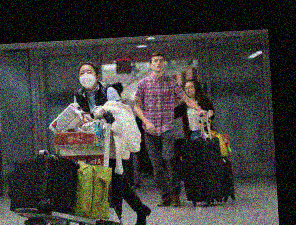with_mask: (77, 67, 96, 89)
without_mask: (149, 56, 164, 73), (182, 82, 196, 97)
